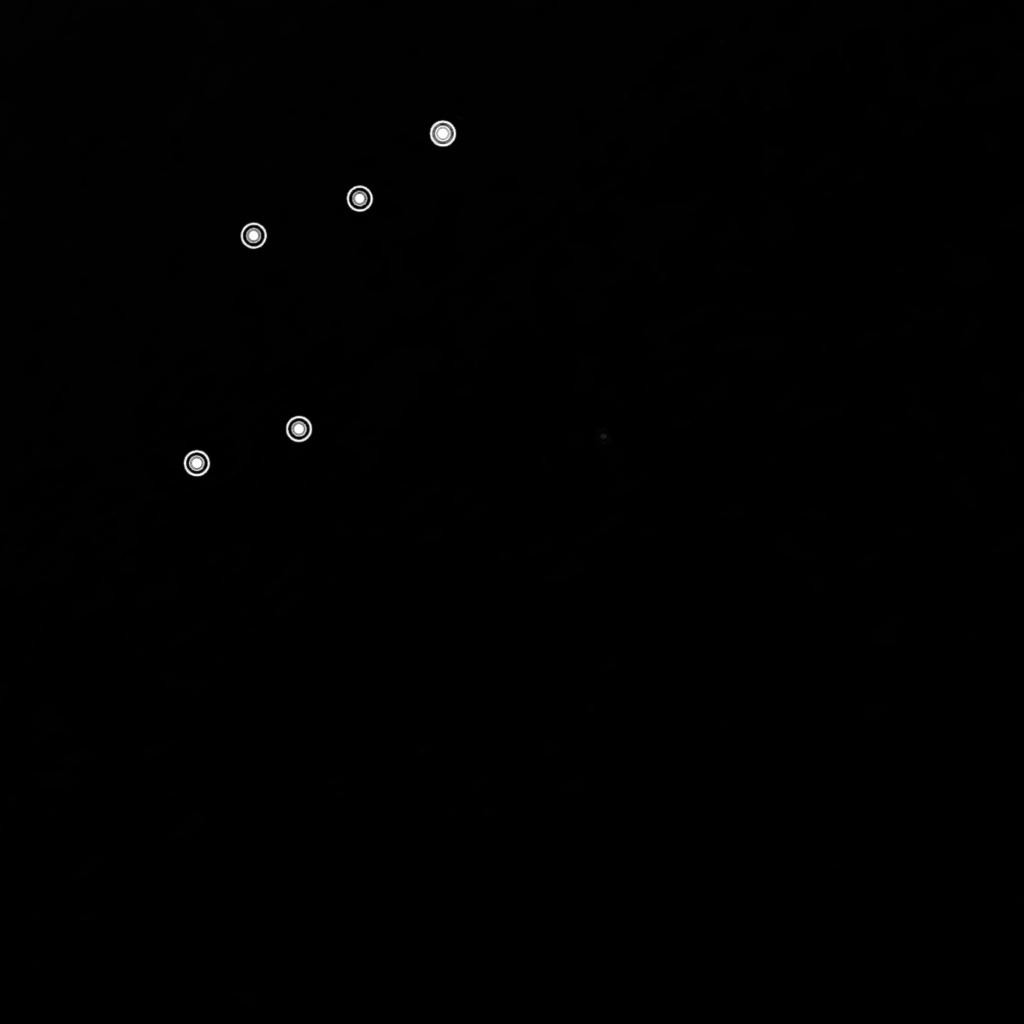lyra: (168, 107, 463, 486)
